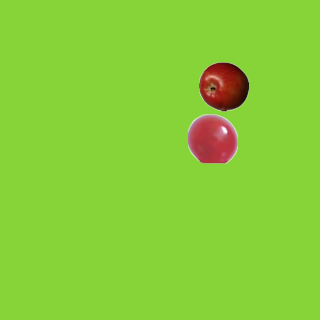Apple Braeburn: (198, 61, 248, 111)
Redcurrant: (187, 113, 237, 163)
